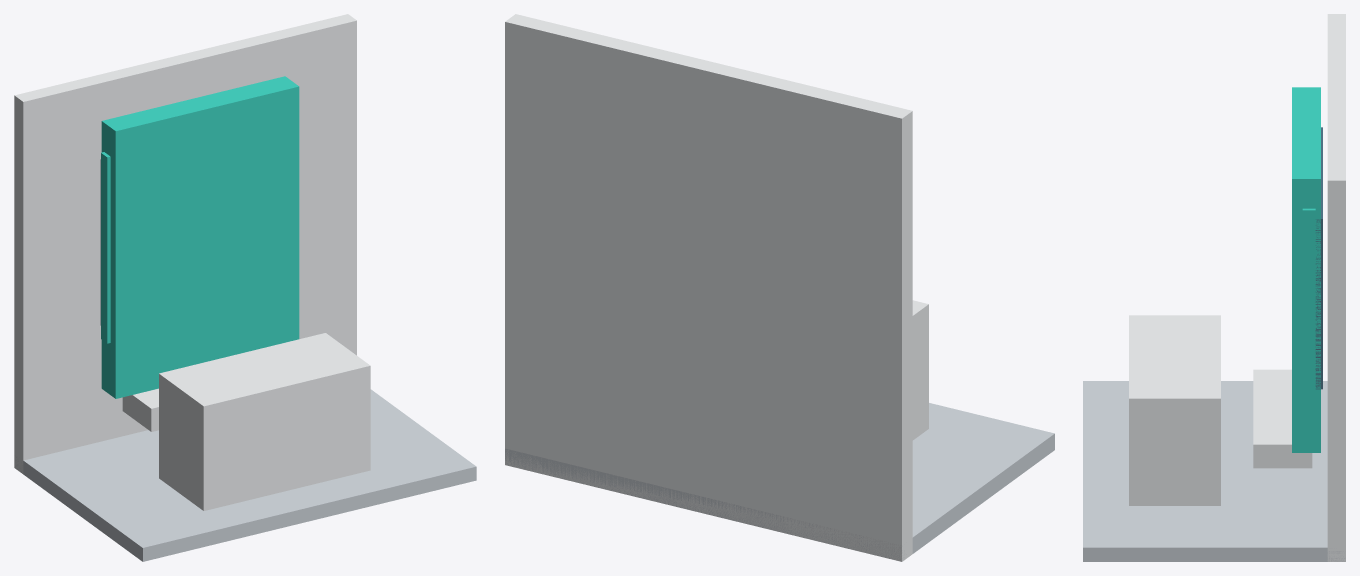
3 renders of one model, left to right at view 1: azimuth 30°, elevation 25°; view 2: azimuth 150°, elevation 25°; view 3: azimuth 270°, elevation 25°, orthographic. The views are drawn at different scales.
Visible parts, largest first — view 1: Exhibition Booth Concept; view 2: Exhibition Booth Concept; view 3: Exhibition Booth Concept.
Boxes of the visible parts, box(x1,y1,x2,y2) form: Exhibition Booth Concept: box(14, 14, 476, 561); Exhibition Booth Concept: box(505, 14, 1054, 561); Exhibition Booth Concept: box(1083, 14, 1345, 561).
Size of the model in its own units: 3 by 3.2 by 2.
